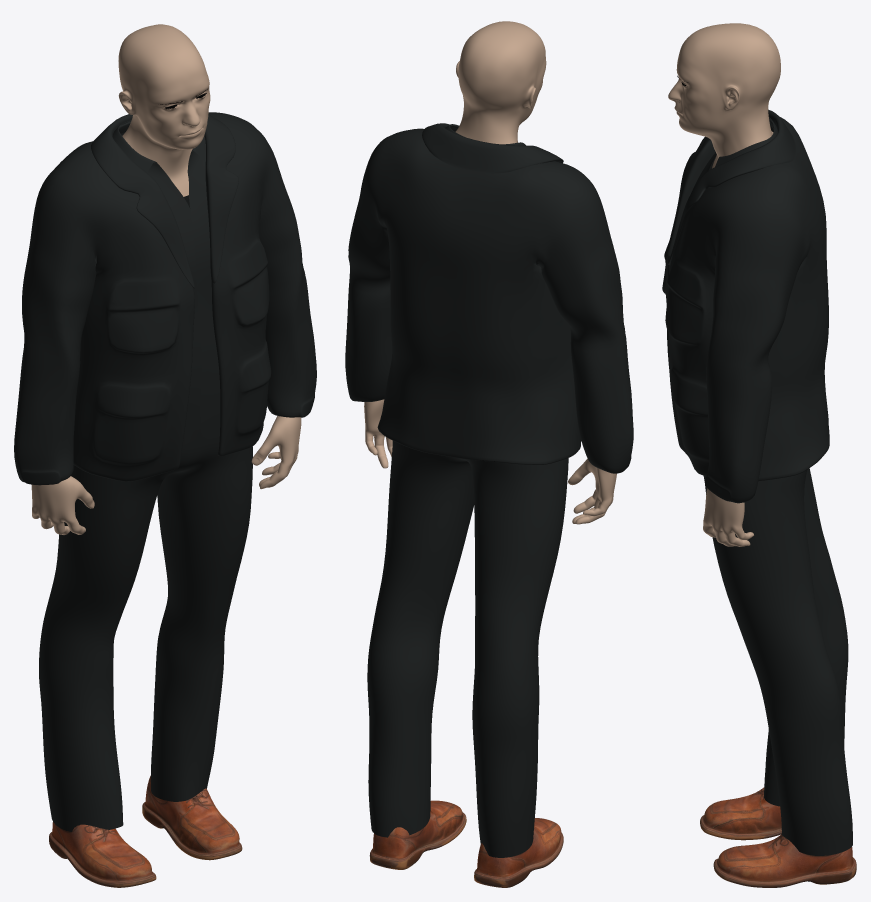
Rendered from daniel-man-1k.glb.
3 views of the same model, side by side, from view 1: azimuth 30°, elevation 25°; view 2: azimuth 150°, elevation 25°; view 3: azimuth 270°, elevation 25° (orthographic). The views are drawn at different scales.
Visible parts, largest first — view 1: man_body.male_casualsuit05, man_body, man_body.shoes01; view 2: man_body.male_casualsuit05, man_body, man_body.shoes01; view 3: man_body.male_casualsuit05, man_body, man_body.shoes01.
Boxes of the visible parts, bbox=[...] form: man_body.male_casualsuit05: bbox=[14, 112, 316, 831]; man_body: bbox=[31, 24, 301, 534]; man_body.shoes01: bbox=[49, 775, 242, 887]; man_body.male_casualsuit05: bbox=[345, 123, 633, 857]; man_body: bbox=[364, 21, 616, 524]; man_body.shoes01: bbox=[369, 800, 563, 887]; man_body.male_casualsuit05: bbox=[662, 109, 852, 855]; man_body: bbox=[668, 23, 780, 546]; man_body.shoes01: bbox=[700, 787, 856, 887].
Size of the model in its own units: 0.6591 by 1.79 by 0.3814.
9 materials, 9 textured.
